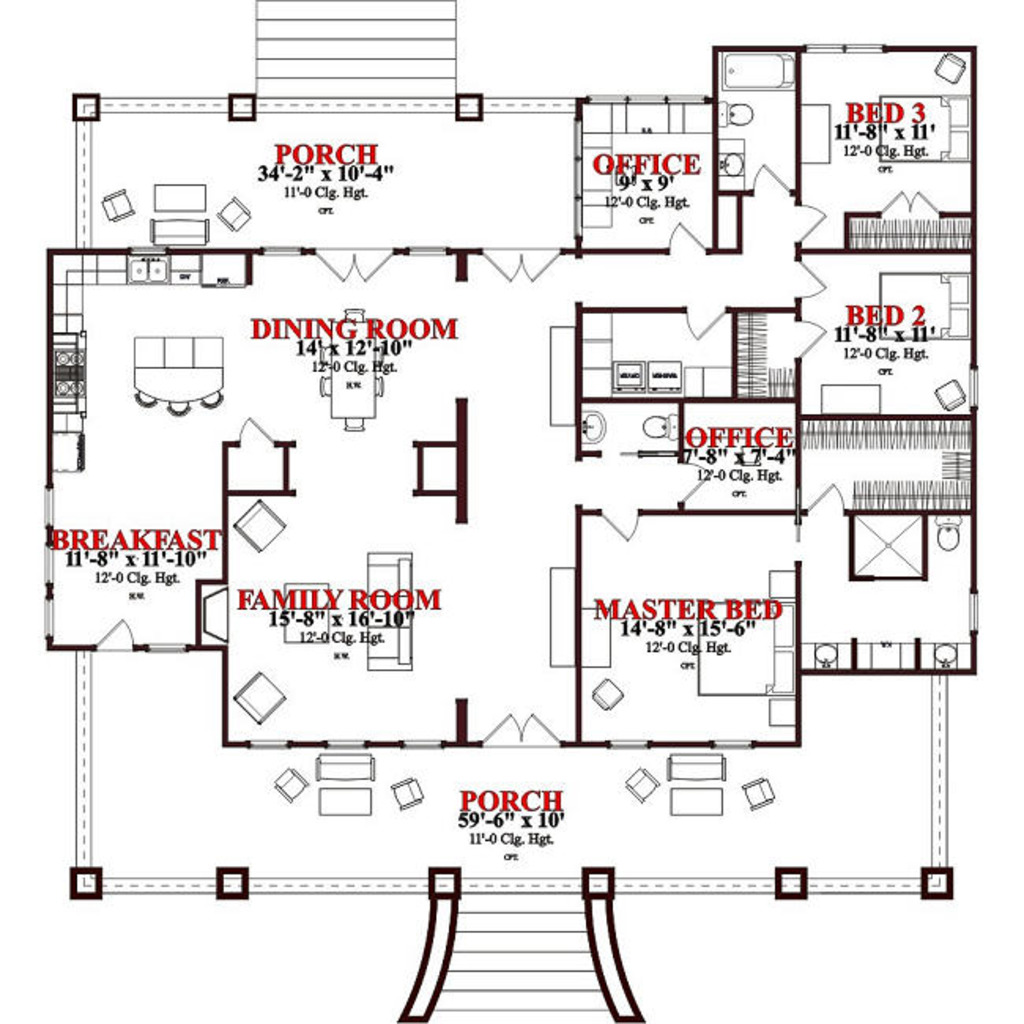bed: (693, 600, 804, 695), (871, 274, 979, 349), (871, 97, 963, 162)
dining_table: (309, 305, 392, 439)
door: (304, 241, 396, 293), (480, 241, 561, 290), (863, 178, 944, 222), (468, 712, 563, 746), (673, 295, 726, 346), (795, 478, 855, 519), (661, 217, 712, 260), (93, 619, 141, 663), (598, 505, 652, 544), (677, 460, 717, 508), (792, 316, 833, 360), (747, 162, 793, 197), (790, 257, 826, 301), (792, 197, 822, 246)
kitchen_bar: (119, 317, 239, 424)
large_sink: (925, 516, 979, 563), (715, 100, 760, 132), (639, 411, 677, 447)
large_sofa: (347, 546, 431, 674), (141, 214, 219, 247), (660, 751, 725, 784), (317, 752, 376, 781)
small_sink: (920, 635, 976, 676), (579, 408, 612, 455), (804, 646, 849, 673), (719, 146, 742, 190)
small_sofa: (223, 670, 303, 725), (225, 501, 293, 565), (212, 192, 263, 239), (88, 184, 139, 227), (734, 763, 776, 814), (385, 778, 425, 824), (624, 764, 657, 808), (273, 765, 303, 805)
tub: (714, 49, 796, 93)
window: (38, 484, 65, 603), (804, 38, 879, 58), (960, 366, 982, 417)
